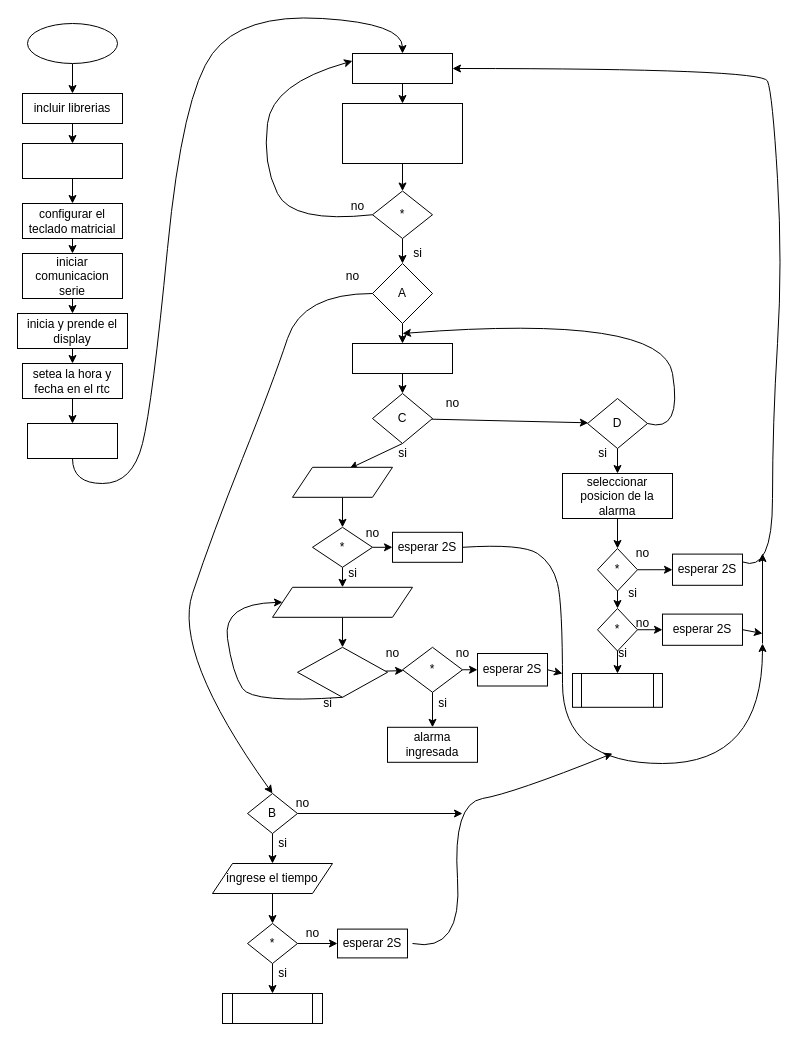
Some shapes in this 798 by 1041 pixel diagram are drawn without their labels. The shapes that lost their labels are listed below. From the top down, each one's centre as x and y in pixels, then its label:
At (72,43): "inicio".
At (402,68): "actualizar el rtc".
At (402,133): "imprimir fecha y hora en el display y la proxima hora".
At (72,160): "crear los 2 objetos".
At (402,358): "ingresar alarma".
At (72,440): "pin 13 como salida".
At (342,481): "ingresar hora".
At (342,601): "posicion de la alarma".
At (342,671): "esta ocupada".
At (617,689): "borrar alarma".
At (272,1008): "Temporizador".
